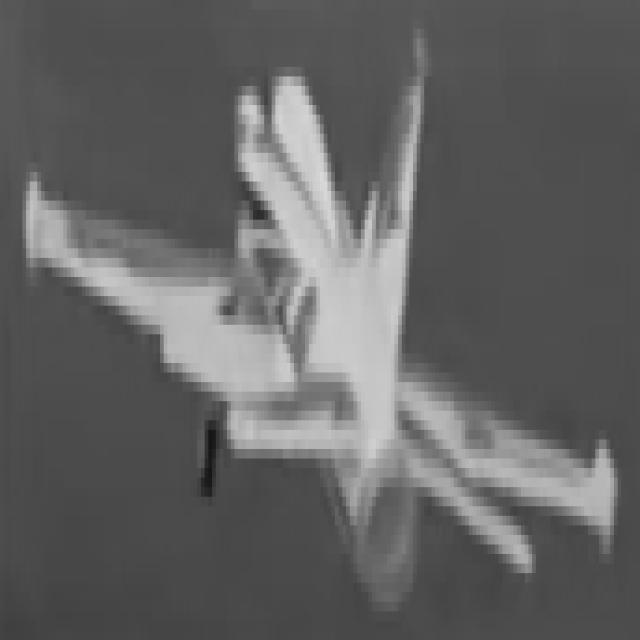iha: (26, 6, 614, 592)
